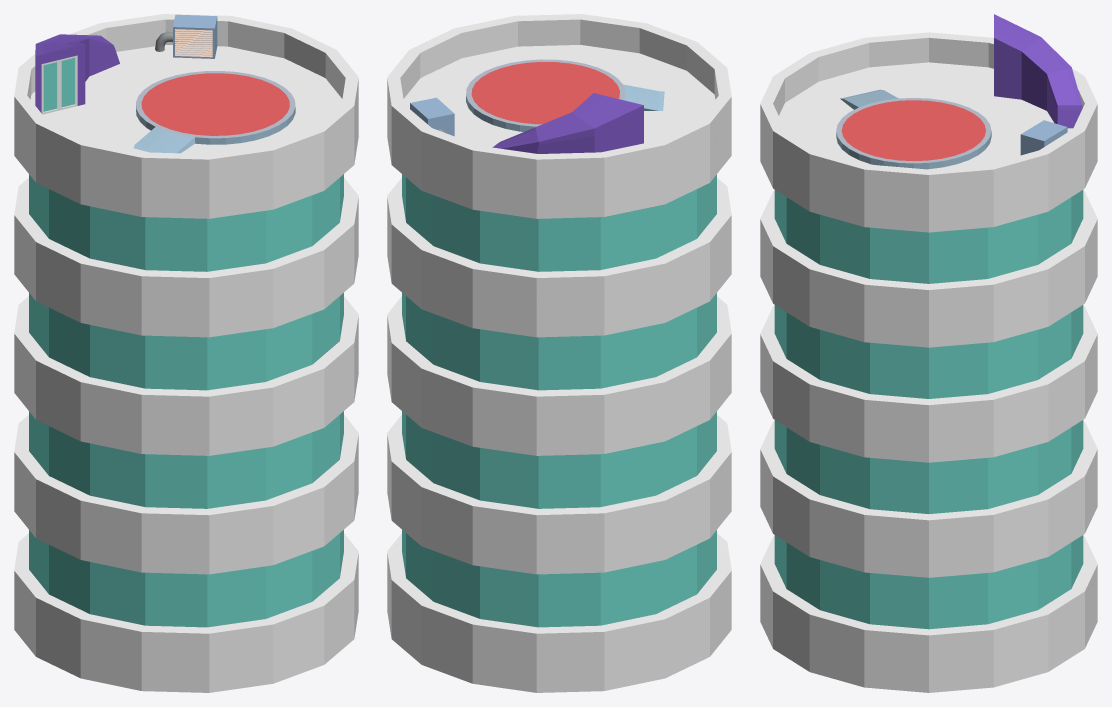
File: SM_Skyscraper_JumpHigher_02a.fbx
The picture shows the model from 3 angles, left to right: view 1: azimuth 30°, elevation 25°; view 2: azimuth 150°, elevation 25°; view 3: azimuth 270°, elevation 25°; orthographic projection. The views are drawn at different scales.
Parts seen in each view (by area): view 1: Skyscraper_02a, Roof_Landing_Area_02a, Roof_Door_02a, Roof_AirConditioner_02a; view 2: Skyscraper_02a, Roof_Landing_Area_02a, Roof_Door_02a, Roof_AirConditioner_02a; view 3: Skyscraper_02a, Roof_Landing_Area_02a, Roof_Door_02a, Roof_AirConditioner_02a.
Boxes of the visible parts, x1,y1,x2,y2 form: Skyscraper_02a: (14, 14, 358, 692); Roof_Landing_Area_02a: (133, 71, 295, 153); Roof_Door_02a: (35, 34, 119, 114); Roof_AirConditioner_02a: (155, 14, 217, 58); Skyscraper_02a: (387, 14, 731, 692); Roof_Landing_Area_02a: (466, 59, 664, 131); Roof_Door_02a: (492, 93, 643, 153); Roof_AirConditioner_02a: (410, 97, 454, 136); Skyscraper_02a: (760, 32, 1097, 692); Roof_Landing_Area_02a: (836, 89, 991, 169); Roof_Door_02a: (994, 14, 1082, 128); Roof_AirConditioner_02a: (1020, 120, 1067, 155).
Size of the model in its own units: 177 by 320 by 177.
